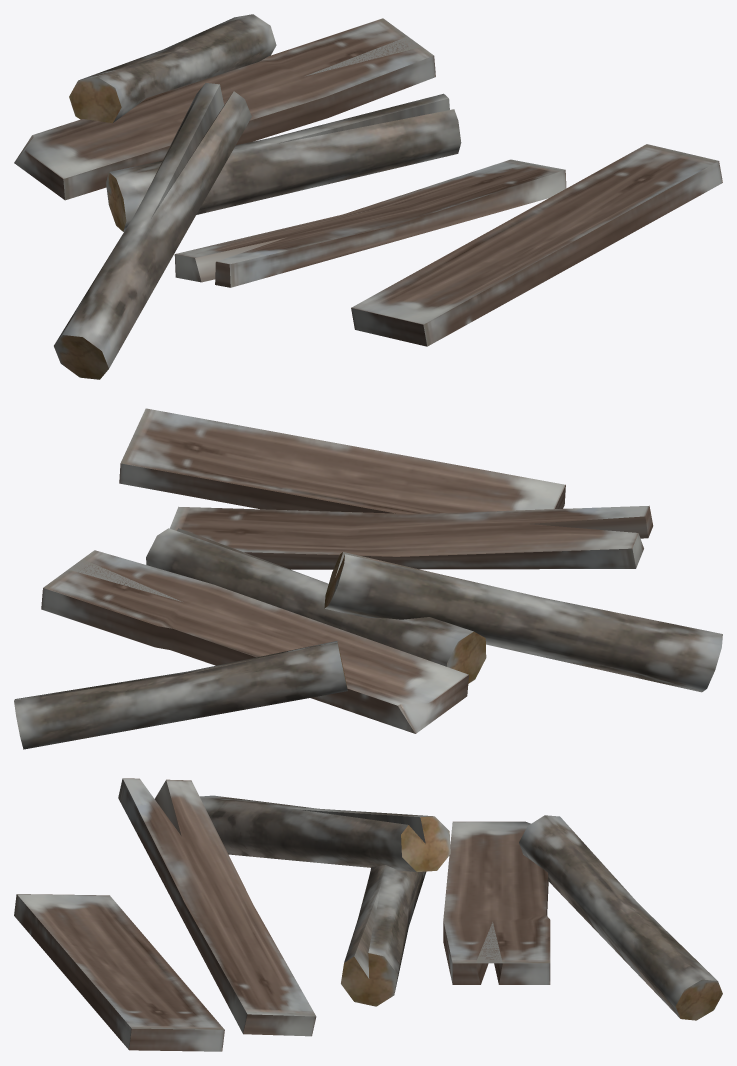
Rendered from snow_a_n04a.fbx.
3 renders of one model, top to bottom at view 1: azimuth 30°, elevation 25°; view 2: azimuth 150°, elevation 25°; view 3: azimuth 270°, elevation 25°, orthographic. The views are drawn at different scales.
Parts seen in each view (by area): view 1: snow_a_n04a; view 2: snow_a_n04a; view 3: snow_a_n04a.
Part boxes in pixels (x1=…): snow_a_n04a: x1=14, y1=14, x2=722, y2=379; snow_a_n04a: x1=14, y1=408, x2=722, y2=749; snow_a_n04a: x1=14, y1=778, x2=722, y2=1051.
Size of the model in its own units: 279 by 66.87 by 290.
